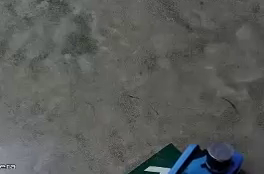robot dog: (163, 141, 245, 173)
